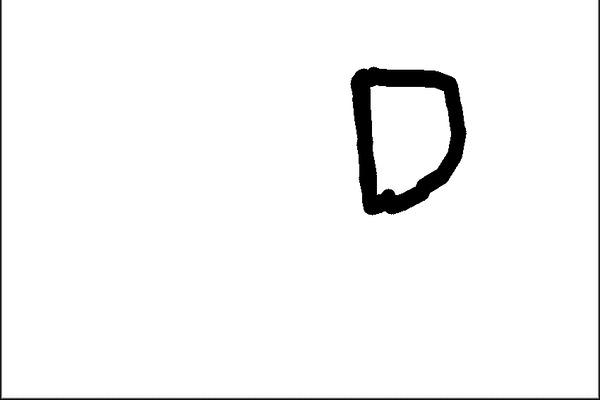D: (342, 57, 472, 220)
